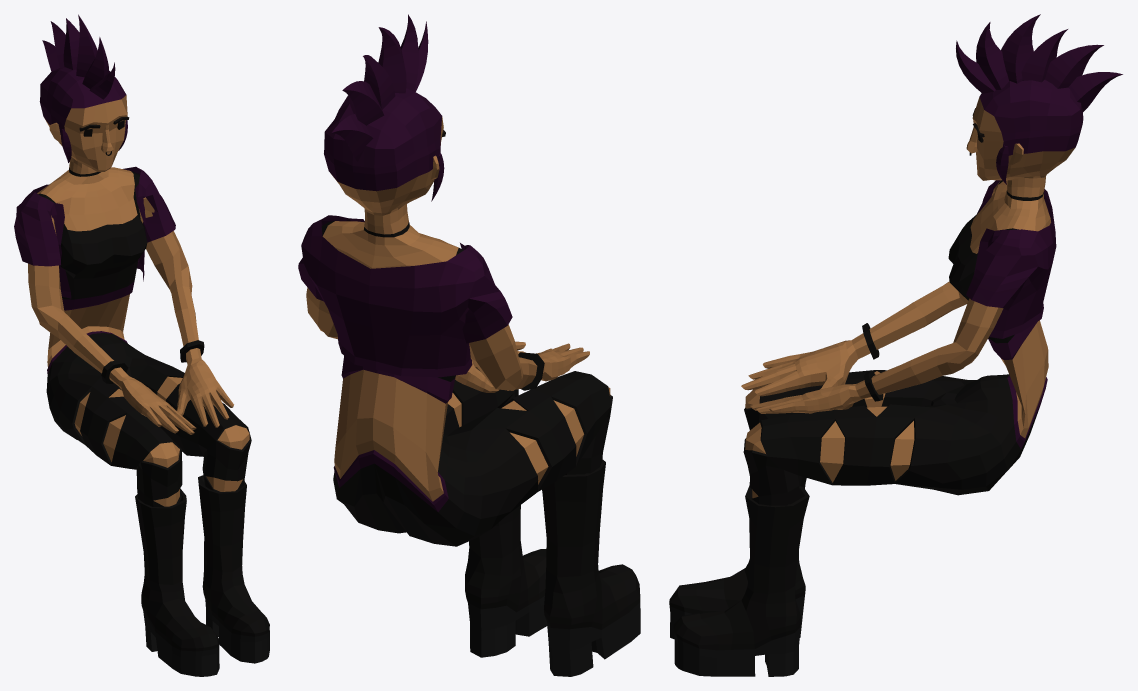
File: w_punker.obj
3 views of the same model, side by side, from view 1: azimuth 30°, elevation 25°; view 2: azimuth 150°, elevation 25°; view 3: azimuth 270°, elevation 25° (orthographic). The views are drawn at different scales.
Parts seen in each view (by area): view 1: Punk_Body, Punk_Legs, Punk_Feet, Punk_Head; view 2: Punk_Body, Punk_Legs, Punk_Feet, Punk_Head; view 3: Punk_Body, Punk_Legs, Punk_Head, Punk_Feet.
Boxes of the visible parts, bbox=[...] form: Punk_Body: bbox=[14, 166, 233, 434]; Punk_Legs: bbox=[46, 333, 251, 507]; Punk_Feet: bbox=[135, 475, 269, 676]; Punk_Head: bbox=[39, 14, 129, 176]; Punk_Body: bbox=[298, 215, 589, 511]; Punk_Legs: bbox=[333, 370, 612, 546]; Punk_Feet: bbox=[465, 459, 640, 676]; Punk_Head: bbox=[324, 14, 445, 237]; Punk_Body: bbox=[741, 180, 1056, 449]; Punk_Legs: bbox=[743, 370, 1039, 505]; Punk_Head: bbox=[956, 14, 1122, 200]; Punk_Feet: bbox=[669, 467, 809, 676].
Size of the model in its own units: 0.4546 by 1.52 by 0.9826.
